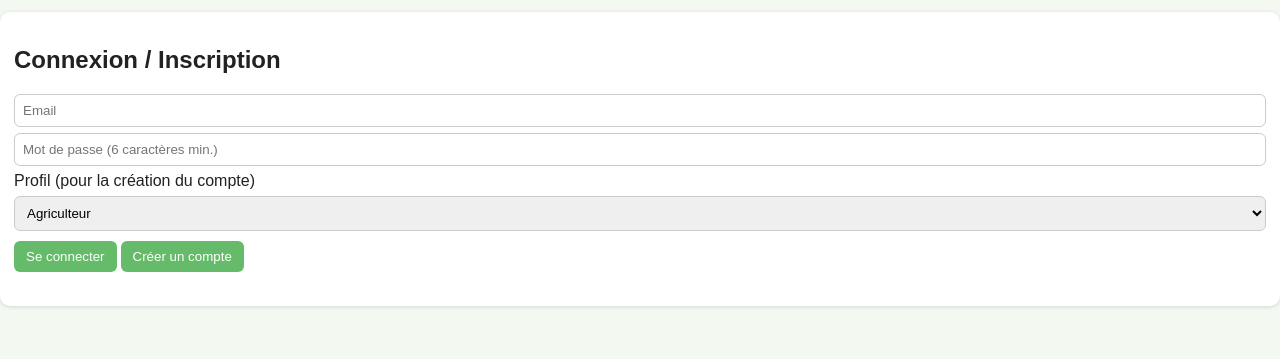
Test case: Auth › transmet le rôle choisi lors de la création du compte
Type "acheteur@example.com" into the field with placeholder "Email".
click(640, 110); type("acheteur@example.com")  # box [14,94,1266,127]
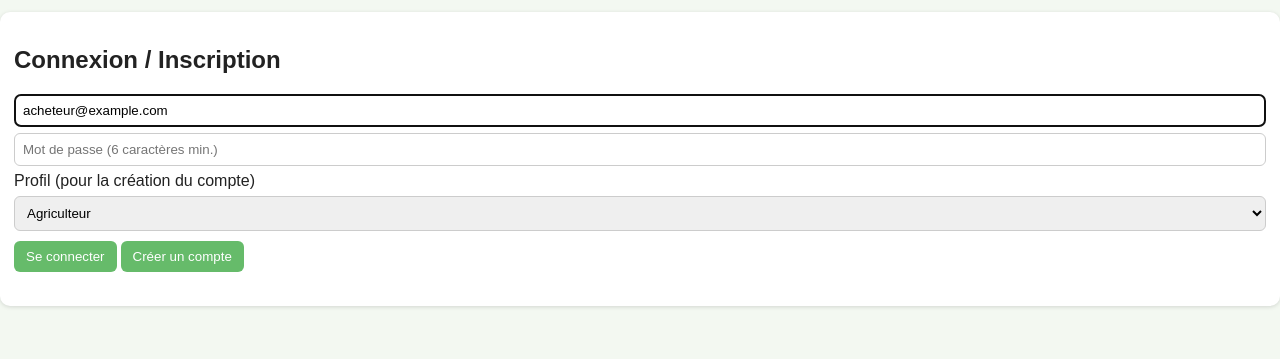
Type "motdepasse" into the password field with placeholder "Mot de passe (6 caractères min.)".
click(640, 149); type("motdepasse")  # box [14,133,1266,166]
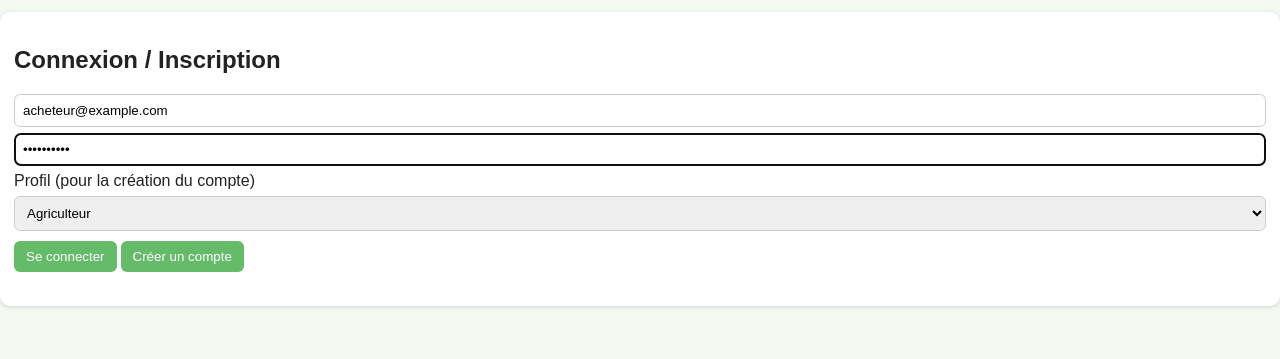
Select "Acheteur" in the dropdown labelled "Profil (pour la création du compte)" at {"x": 640, "y": 213}, box [14,196,1266,231]
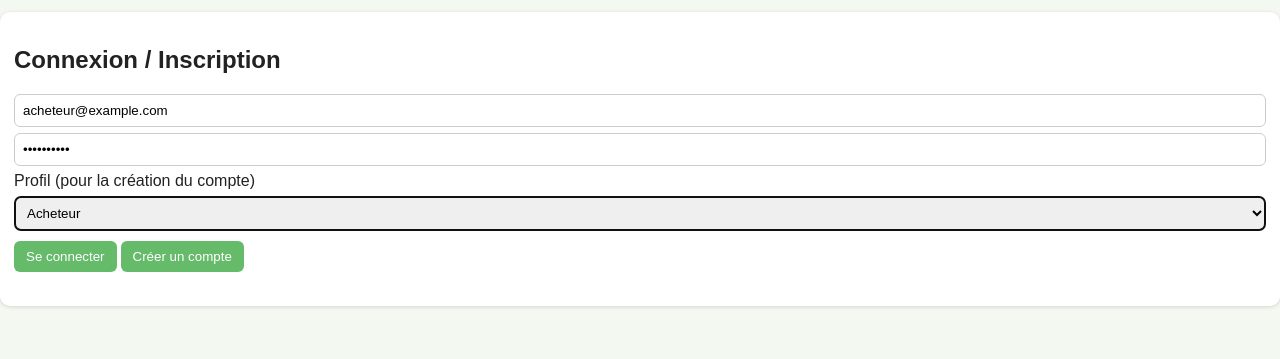
Click the button "Créer un compte".
click(182, 256)  # box [120,241,244,272]
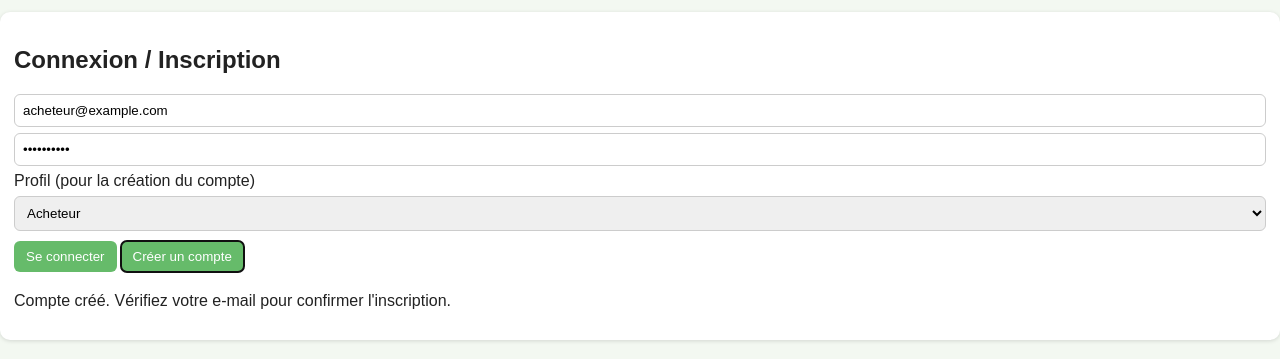
expect the text "Compte créé. Vérifiez votre e-mail pour confirmer l'inscription." is shown: met, box [14,292,451,309]
